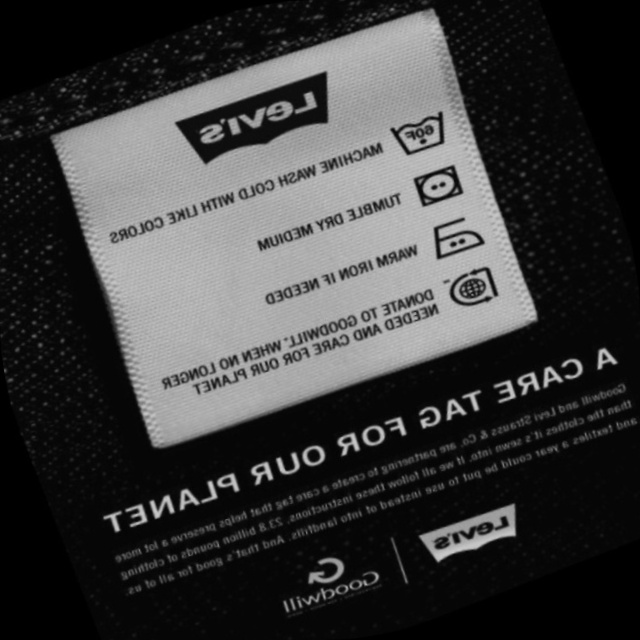30C: (372, 90, 467, 176)
iron_medium: (410, 196, 500, 278)
tumble_dry_medium: (397, 149, 480, 225)
